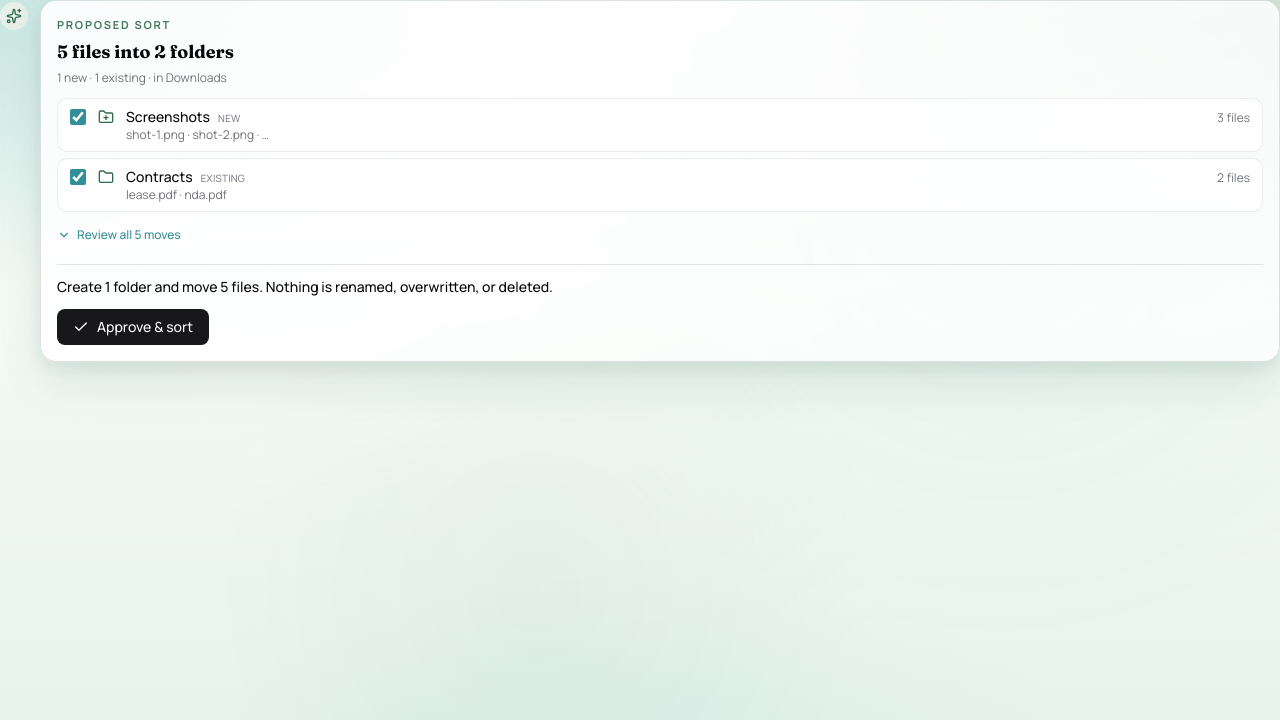
it: PlanCard review + approval (W13) › makes the complete move set inspectable behind an expandable control
The image size is (1280, 720).
Expected: the text "Screenshots" is shown, [126,107,210,126]
Expected: the text "Contracts" is shown, [126,167,193,186]
// Expanding reveals every file, grouped by destination as a semantic list.
Click the button "Review all 5 moves" at {"x": 119, "y": 235}, box [57,227,181,243]
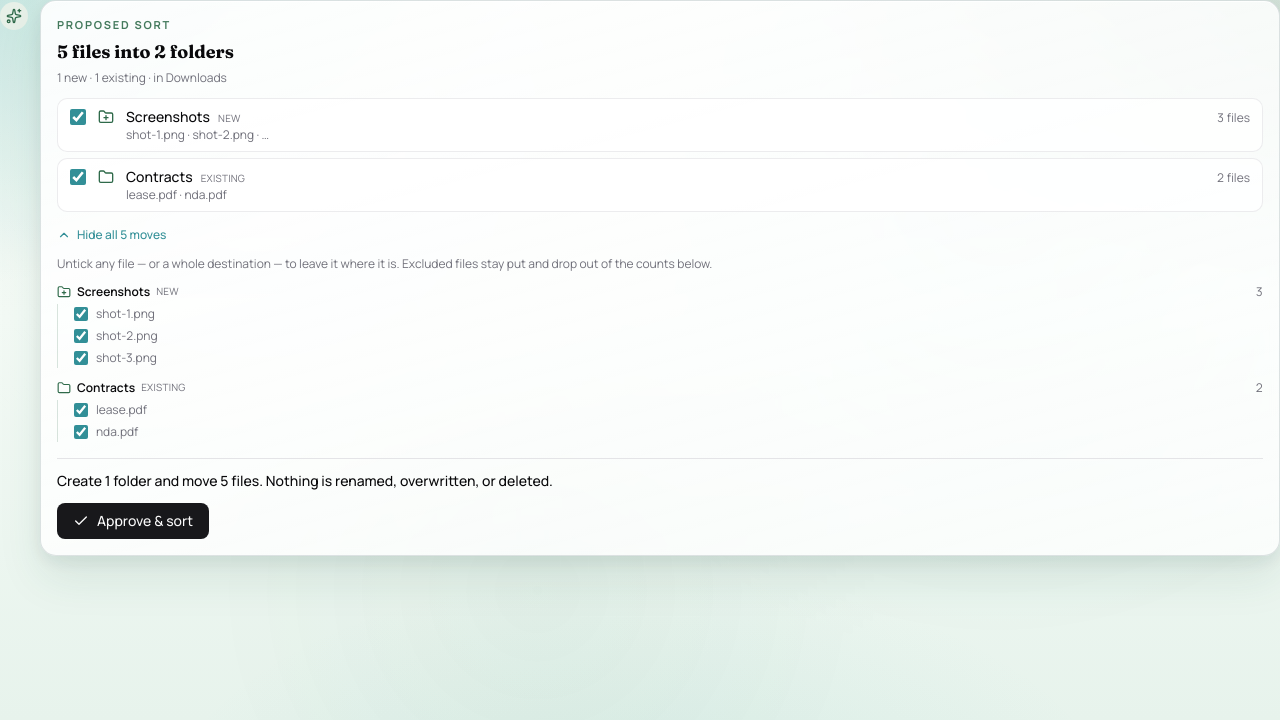
Expected: the button named "review all 5 moves" is expanded, [57,227,166,243]
Expected: the text "shot-1.png" is shown, [96,305,155,322]
Expected: the text "shot-2.png" is shown, [96,327,158,344]
